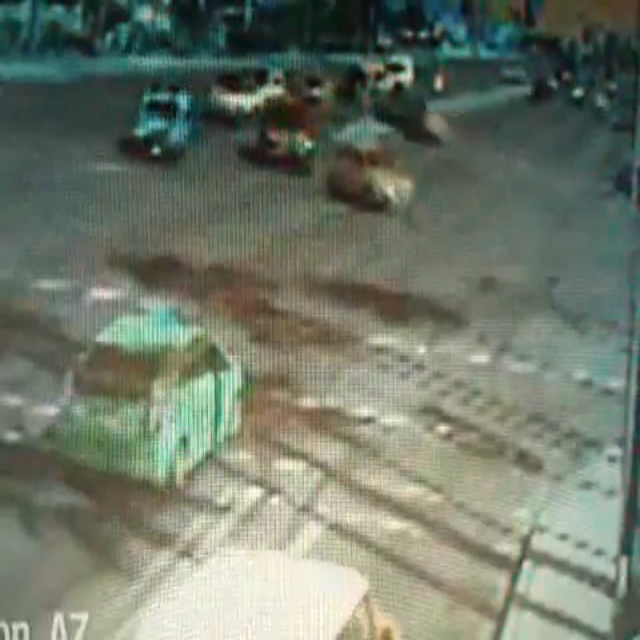acc: (251, 105, 403, 220)
